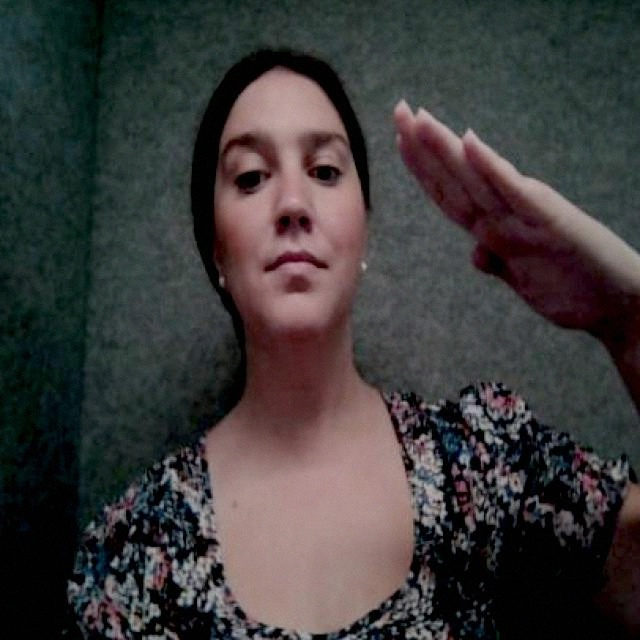Paper: (386, 91, 640, 339)
